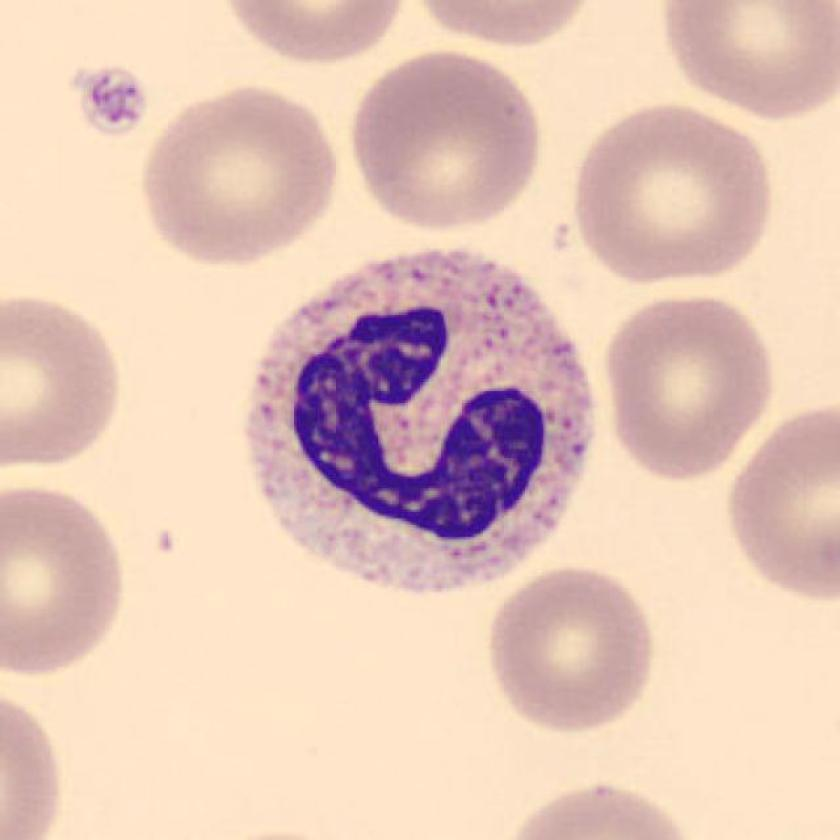neutrophil: (242, 237, 604, 602)
